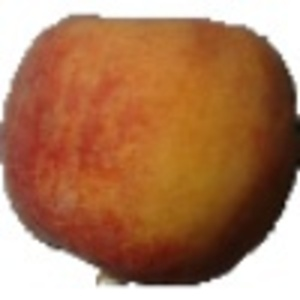pêssego: (1, 12, 300, 288)
